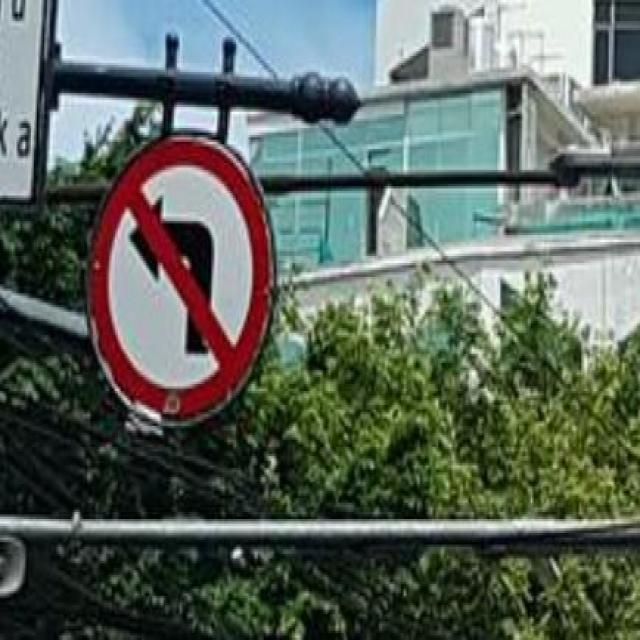traffic sign: (97, 140, 264, 414)
